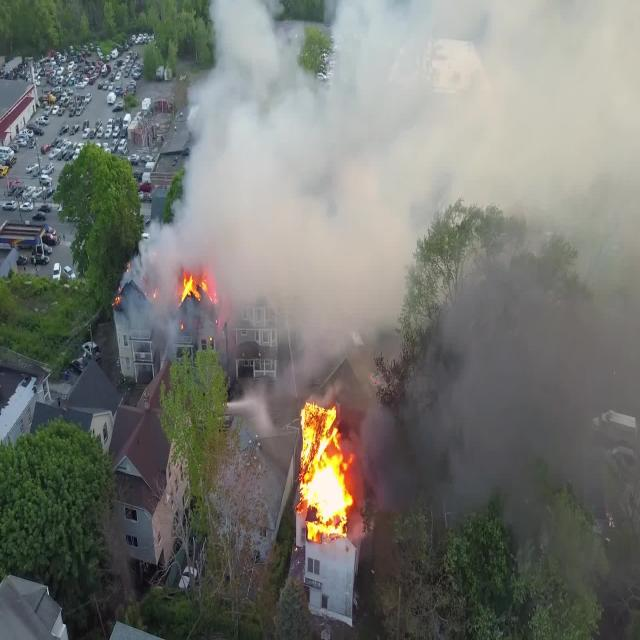Fire: (298, 401, 367, 545), (114, 261, 227, 338)
Smoke: (114, 0, 640, 387), (349, 256, 640, 569)
